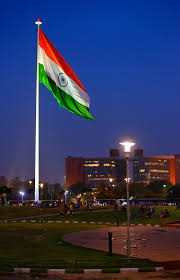flag: (32, 25, 98, 123)
